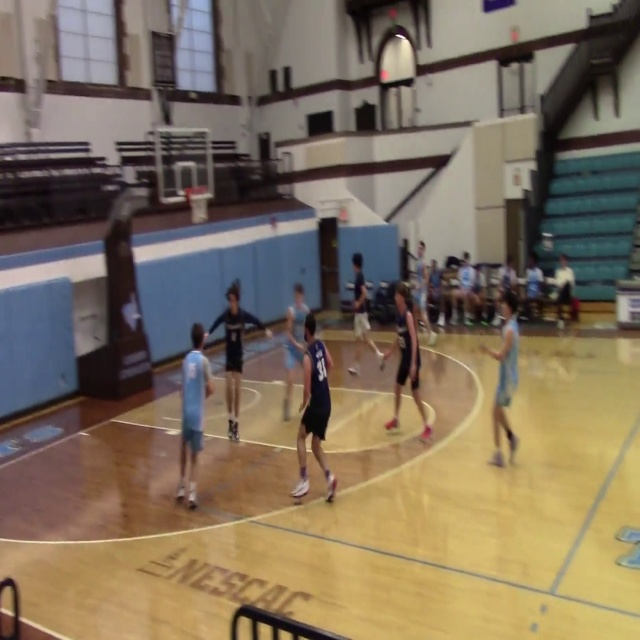Basketball: (427, 331, 437, 346)
